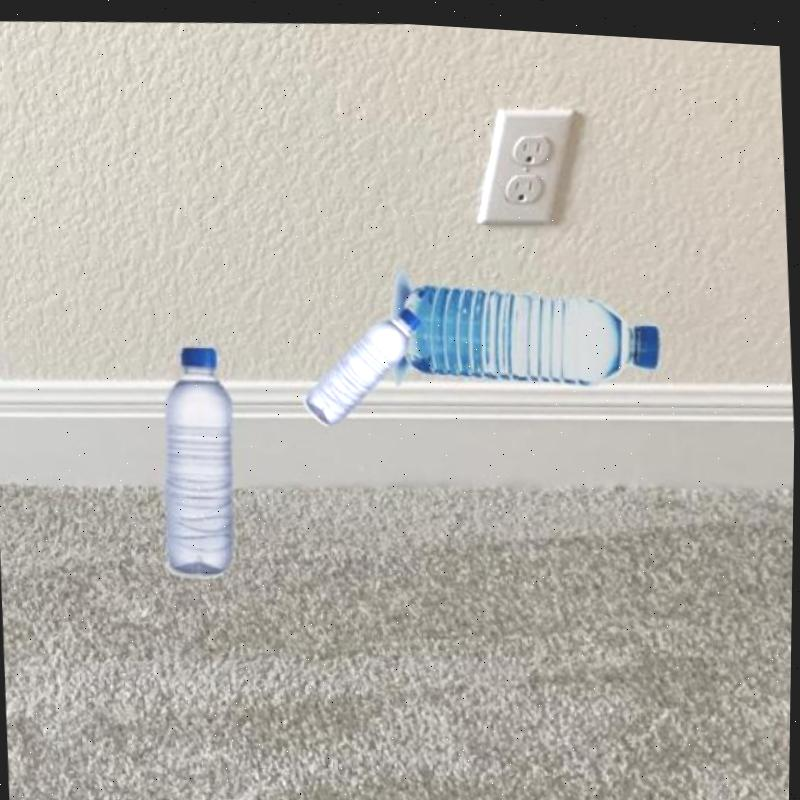botella: (401, 268, 663, 392), (151, 342, 241, 576), (299, 297, 426, 428)
